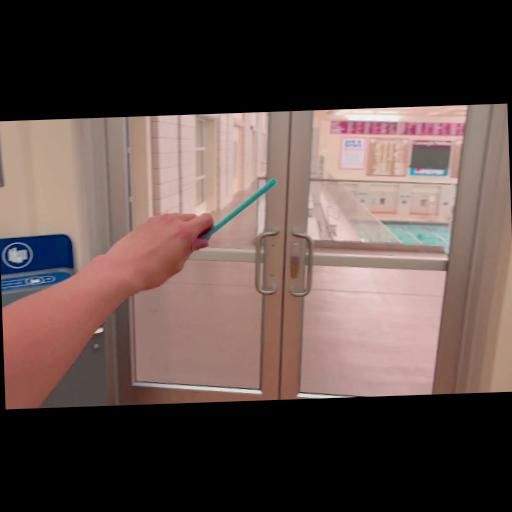straw: (199, 178, 278, 239)
